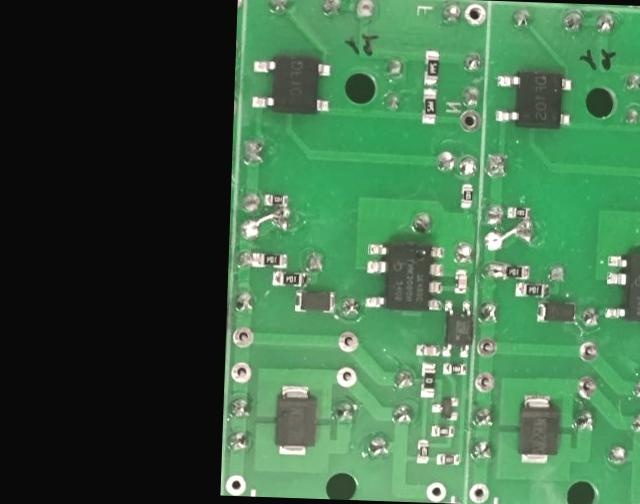chip-capacitor: (453, 267, 468, 294), (415, 340, 440, 355)
chip-resistor: (249, 250, 288, 268), (418, 359, 436, 397), (270, 269, 308, 287), (420, 86, 437, 124), (423, 48, 440, 85), (513, 281, 550, 298), (501, 261, 530, 279), (434, 449, 462, 465), (262, 191, 290, 207), (414, 437, 430, 463), (441, 361, 467, 376), (429, 422, 455, 437), (505, 205, 531, 220), (459, 183, 473, 209)
diode: (270, 380, 318, 458), (515, 391, 562, 466), (292, 287, 337, 313), (534, 297, 579, 323)
ic: (364, 239, 444, 313), (248, 52, 332, 115), (493, 68, 574, 129), (440, 296, 472, 358)
transistor: (429, 394, 459, 422)
